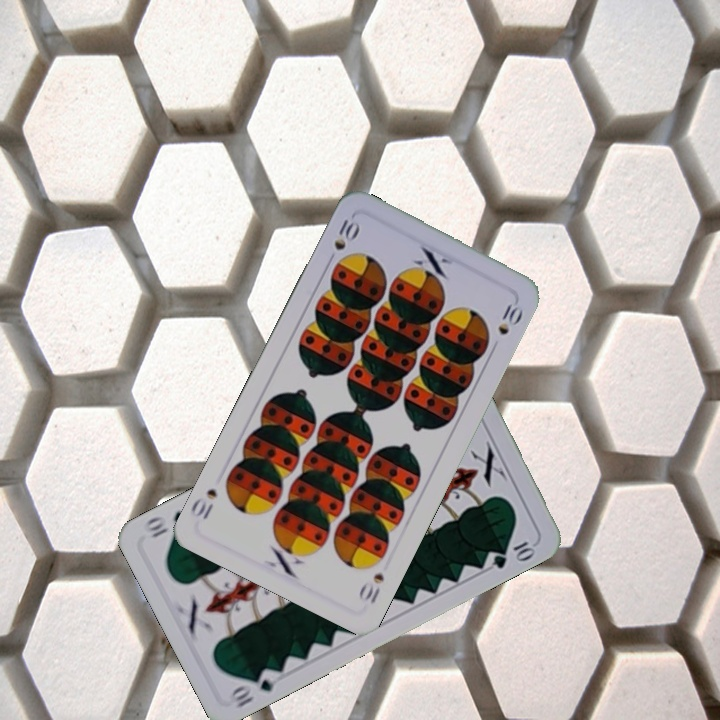G10: (227, 664, 278, 711)
S10: (329, 212, 363, 253), (355, 568, 387, 607)
